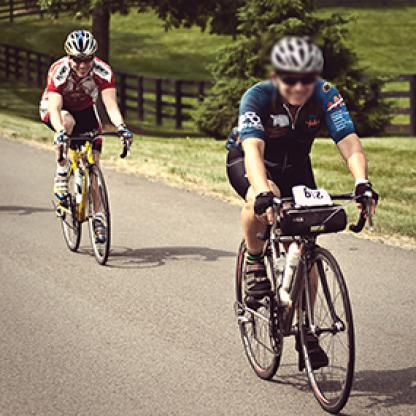Helmet: (262, 31, 331, 110), (64, 26, 98, 77)
